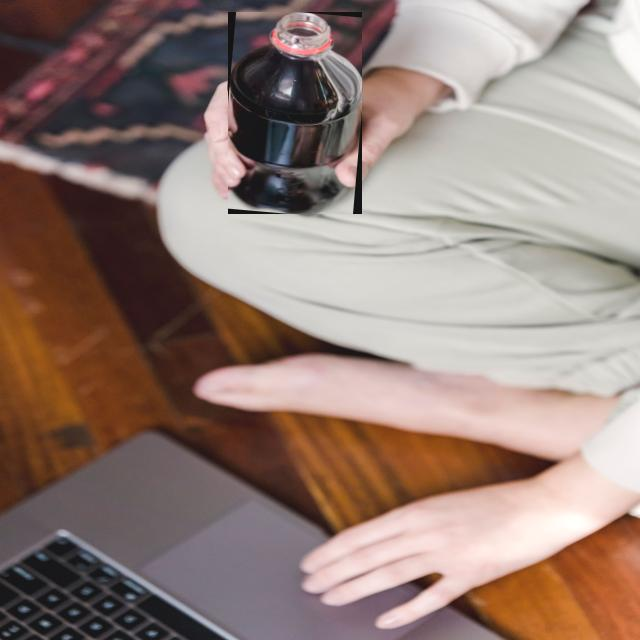Bottle: (227, 13, 360, 214)
